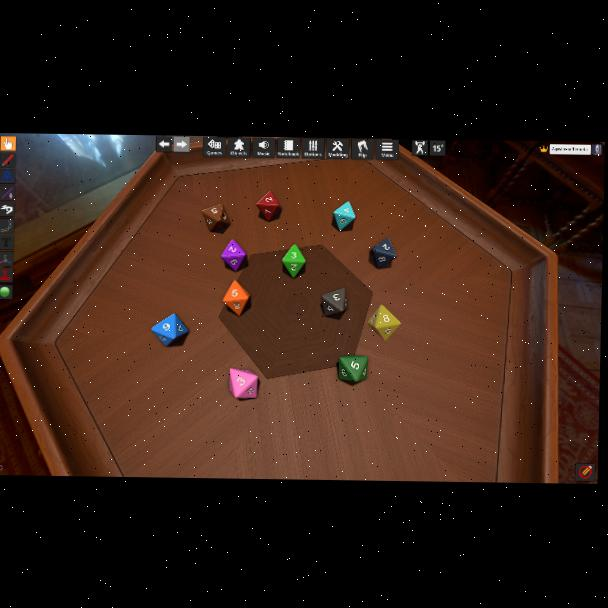d8: (365, 305, 401, 343), (152, 313, 189, 346), (228, 368, 259, 399), (223, 281, 250, 316), (370, 238, 397, 269), (282, 245, 307, 278), (337, 356, 367, 383), (255, 190, 280, 222), (200, 204, 228, 232), (221, 238, 246, 269), (333, 201, 356, 231), (322, 289, 345, 317)
